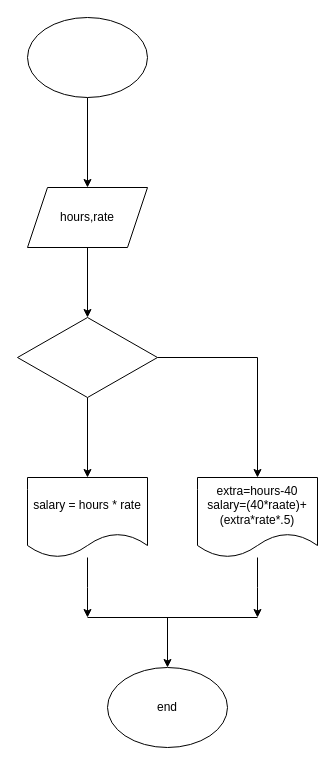
Some shapes in this 335 by 765 pixel diagram are drawn without their labels. The box of each missing label's shape, as (x1, y1, x2, y2) in pixels:
begin: (26, 16, 148, 98)
if hours <- 40: (16, 316, 158, 398)
